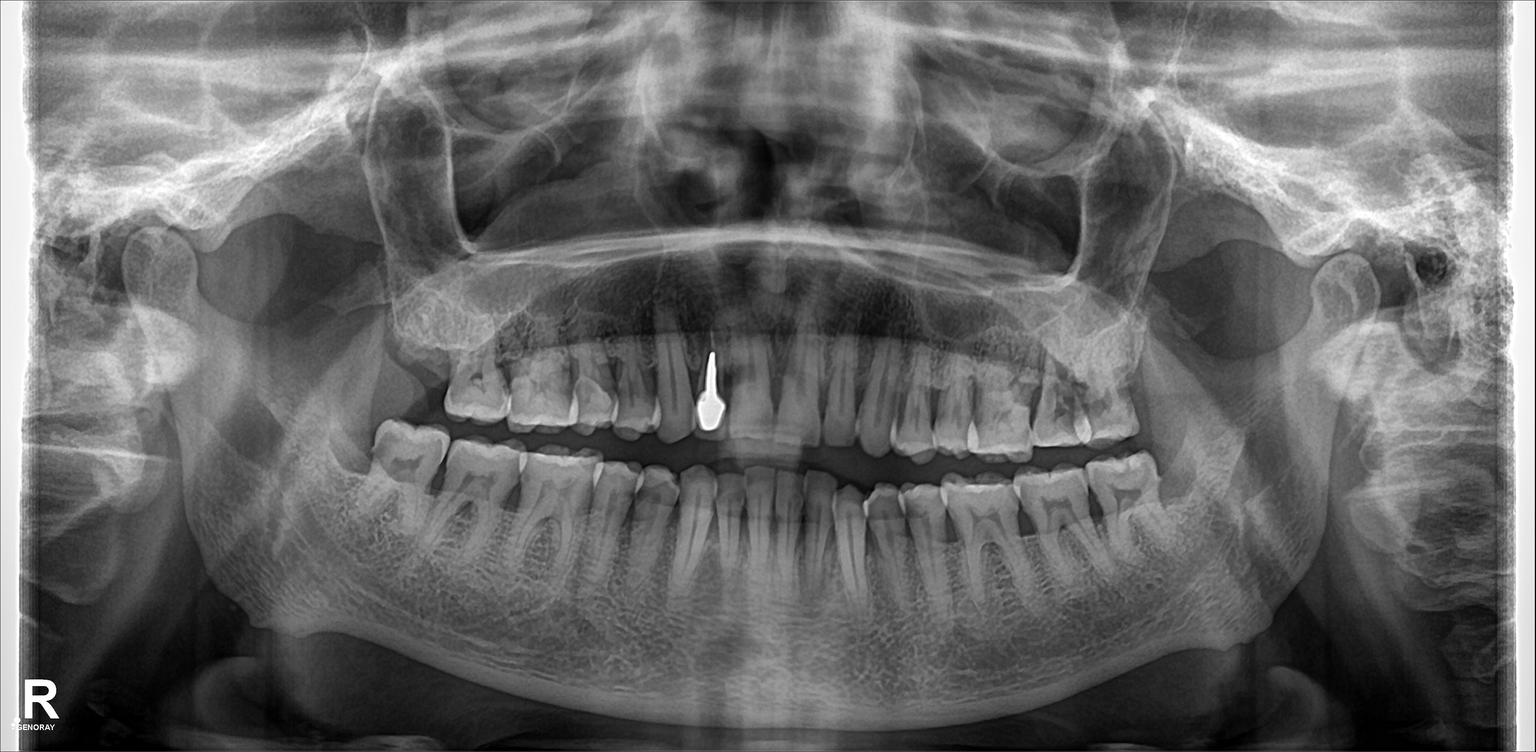Endodontically Treated Tooth: (693, 342, 731, 435)
Missing Tooth: (385, 315, 444, 411)
